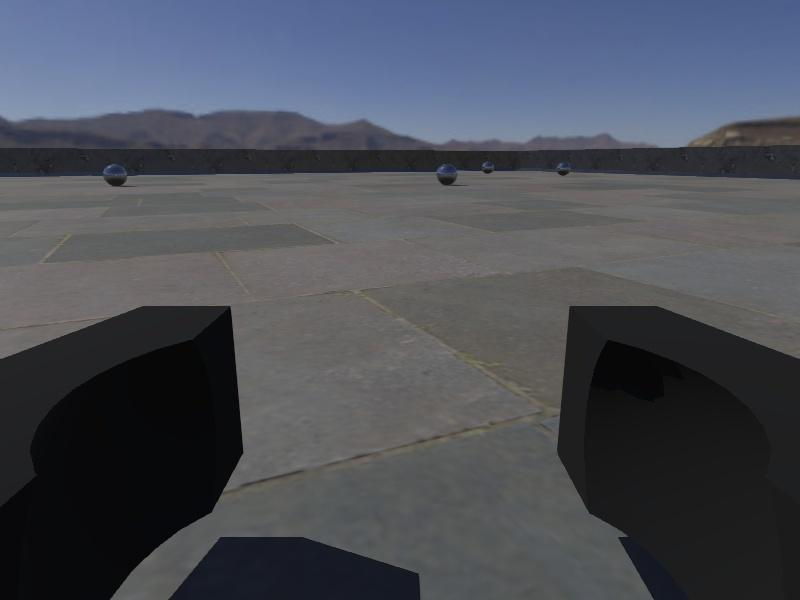steel ball: (102, 163, 128, 188), (436, 163, 459, 187), (555, 159, 572, 176), (481, 161, 495, 175)
